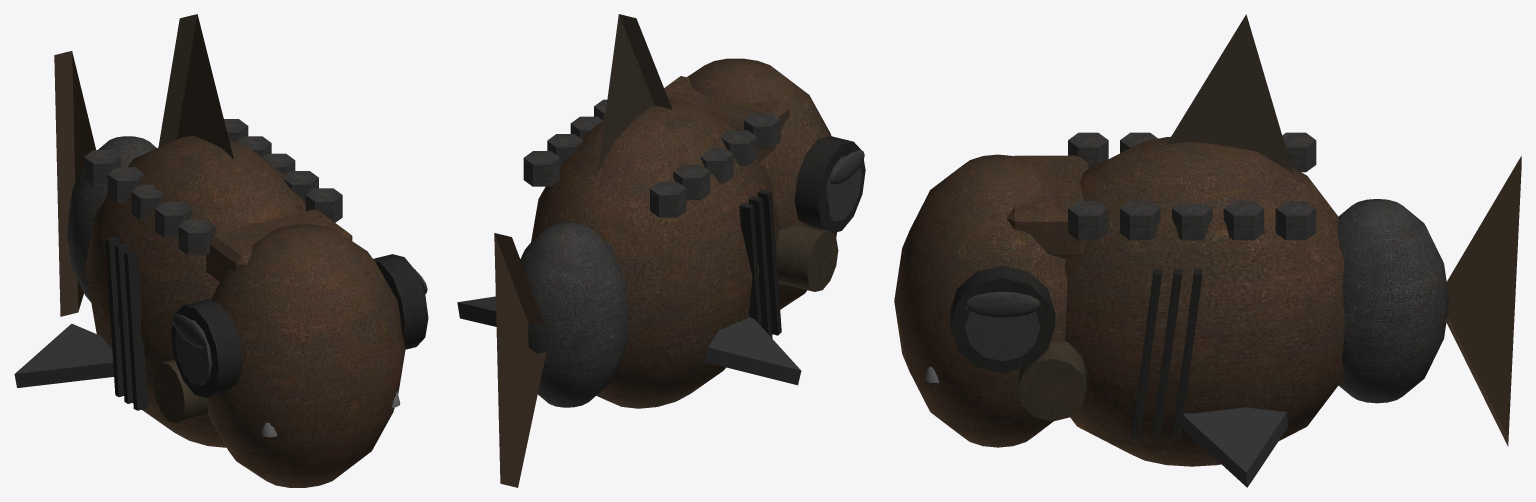
File: wild-testere-piranha.glb
The picture shows the model from 3 angles, left to right: view 1: azimuth 30°, elevation 25°; view 2: azimuth 150°, elevation 25°; view 3: azimuth 270°, elevation 25°; orthographic projection. The views are drawn at different scales.
Parts seen in each view (by area): view 1: TesterePiranha__Head_Mesh, TesterePiranha__Body_Mesh, TesterePiranha__TailTip_Mesh, TesterePiranha__Fin_L_Mesh, TesterePiranha__Tail_Mesh, TesterePiranha__Lid_L_Mesh; view 2: TesterePiranha__Body_Mesh, TesterePiranha__Tail_Mesh, TesterePiranha__Head_Mesh, TesterePiranha__TailTip_Mesh, TesterePiranha__Fin_L_Mesh, TesterePiranha__Fin_R_Mesh, TesterePiranha__Lid_L_Mesh; view 3: TesterePiranha__Body_Mesh, TesterePiranha__Head_Mesh, TesterePiranha__Tail_Mesh, TesterePiranha__TailTip_Mesh, TesterePiranha__Fin_R_Mesh, TesterePiranha__Lid_R_Mesh.
Boxes of the visible parts, x1,y1,x2,y2 form: TesterePiranha__Head_Mesh: (171,224,428,487); TesterePiranha__Body_Mesh: (84,14,352,447); TesterePiranha__TailTip_Mesh: (54,51,95,316); TesterePiranha__Fin_L_Mesh: (14,323,113,387); TesterePiranha__Tail_Mesh: (67,136,156,302); TesterePiranha__Lid_L_Mesh: (172,314,207,348); TesterePiranha__Body_Mesh: (523,14,838,408); TesterePiranha__Tail_Mesh: (520,222,629,407); TesterePiranha__Head_Mesh: (687,58,865,309); TesterePiranha__TailTip_Mesh: (494,233,546,487); TesterePiranha__Fin_L_Mesh: (704,316,801,385); TesterePiranha__Fin_R_Mesh: (457,296,496,326); TesterePiranha__Lid_L_Mesh: (829,150,864,184); TesterePiranha__Body_Mesh: (1007,14,1344,466); TesterePiranha__Head_Mesh: (894,154,1067,447); TesterePiranha__Tail_Mesh: (1337,199,1449,403); TesterePiranha__TailTip_Mesh: (1445,156,1521,446); TesterePiranha__Fin_R_Mesh: (1182,407,1287,487); TesterePiranha__Lid_R_Mesh: (964,292,1040,317).
Size of the model in its own units: 0.5832 by 0.644 by 0.834.
7 materials, 7 textured.
